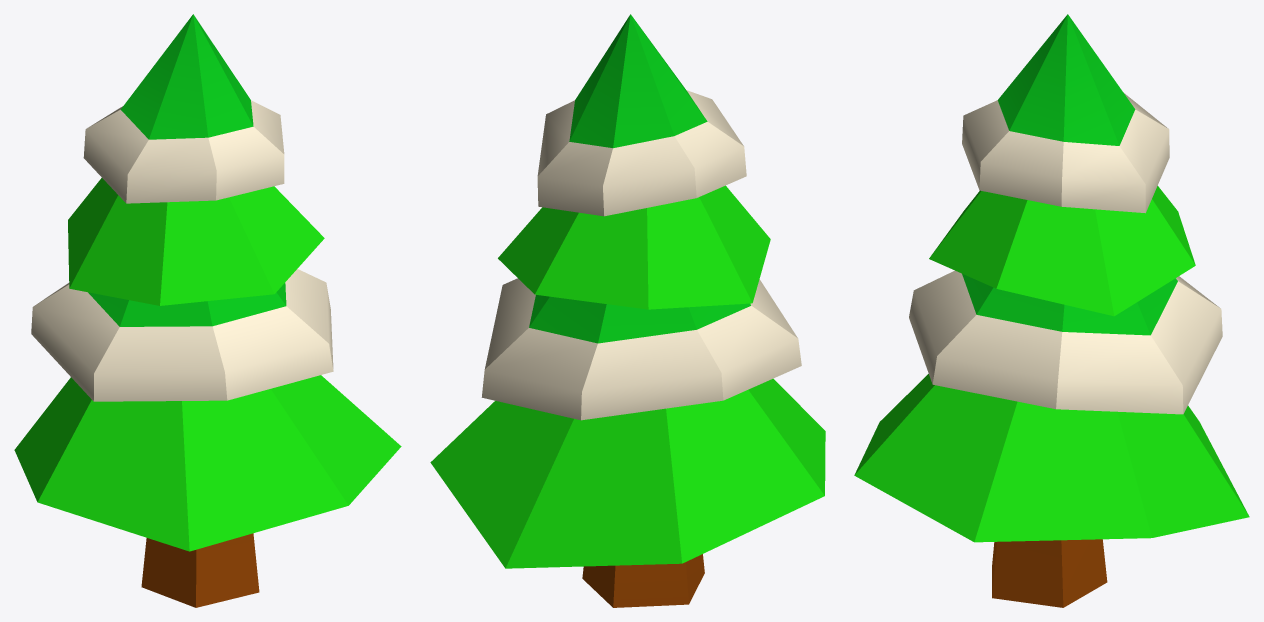
File: Tree_25_Winter.fbx
3 renders of one model, left to right at view 1: azimuth 30°, elevation 25°; view 2: azimuth 150°, elevation 25°; view 3: azimuth 270°, elevation 25°, orthographic. The views are drawn at different scales.
Parts seen in each view (by area): view 1: Tree_25_p2_Winter, Tree_25_p1_Winter; view 2: Tree_25_p2_Winter, Tree_25_p1_Winter; view 3: Tree_25_p2_Winter, Tree_25_p1_Winter.
Boxes of the visible parts, left/top/right/bottom form: Tree_25_p2_Winter: left=14, top=14, right=401, bottom=551; Tree_25_p1_Winter: left=141, top=533, right=259, bottom=607; Tree_25_p2_Winter: left=430, top=14, right=825, bottom=568; Tree_25_p1_Winter: left=582, top=554, right=704, bottom=607; Tree_25_p2_Winter: left=854, top=14, right=1249, bottom=542; Tree_25_p1_Winter: left=992, top=539, right=1107, bottom=607.
Size of the model in its own units: 151 by 242 by 152.
